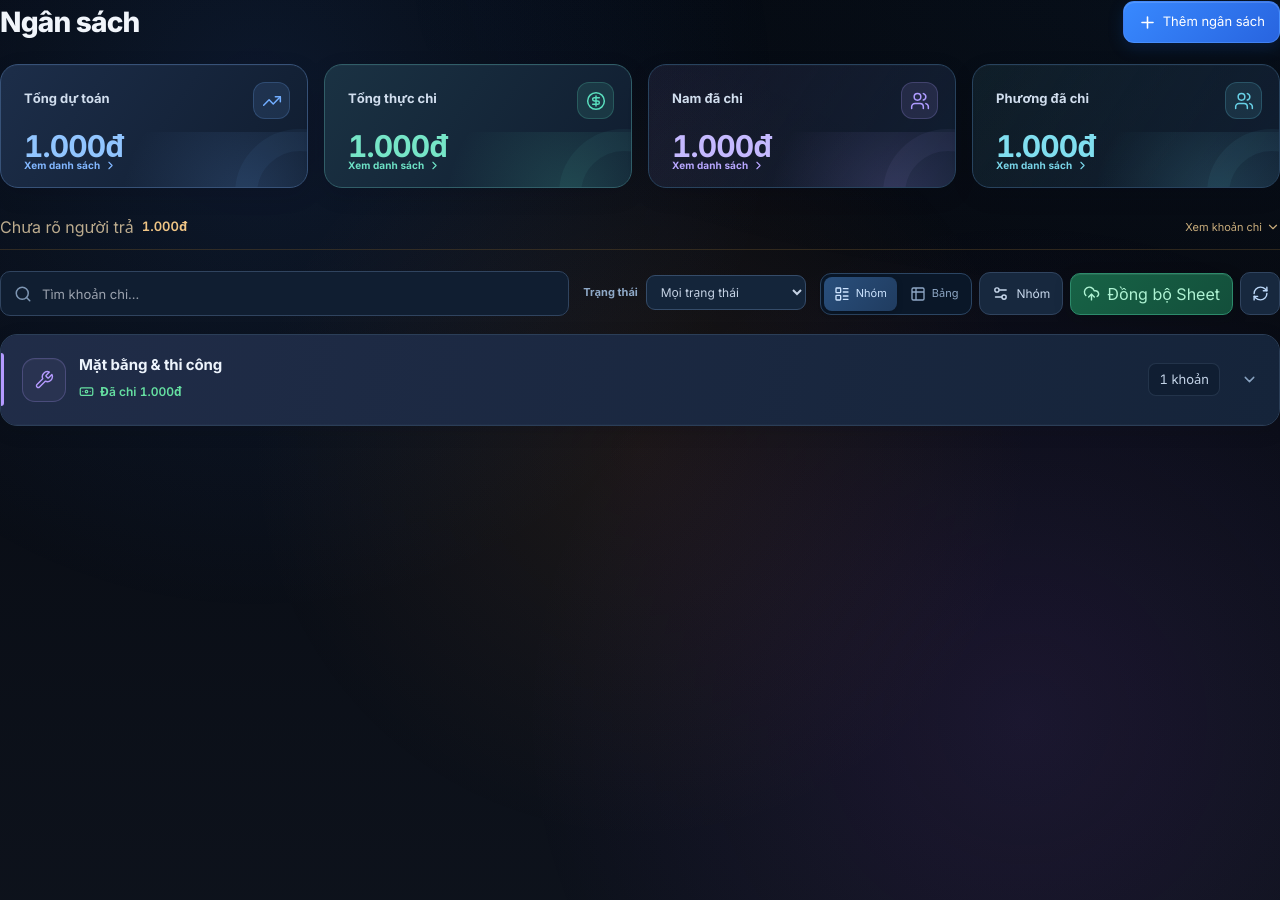
Checklist and Budget interactions › starts budget collapsed and sync resets open groups, search and filters
Click the button "Mặt bằng & thi công Đã chi 1.000đ 1 khoản". click: (44,380)
box: top-left (1, 335), bottom-right (1279, 425)
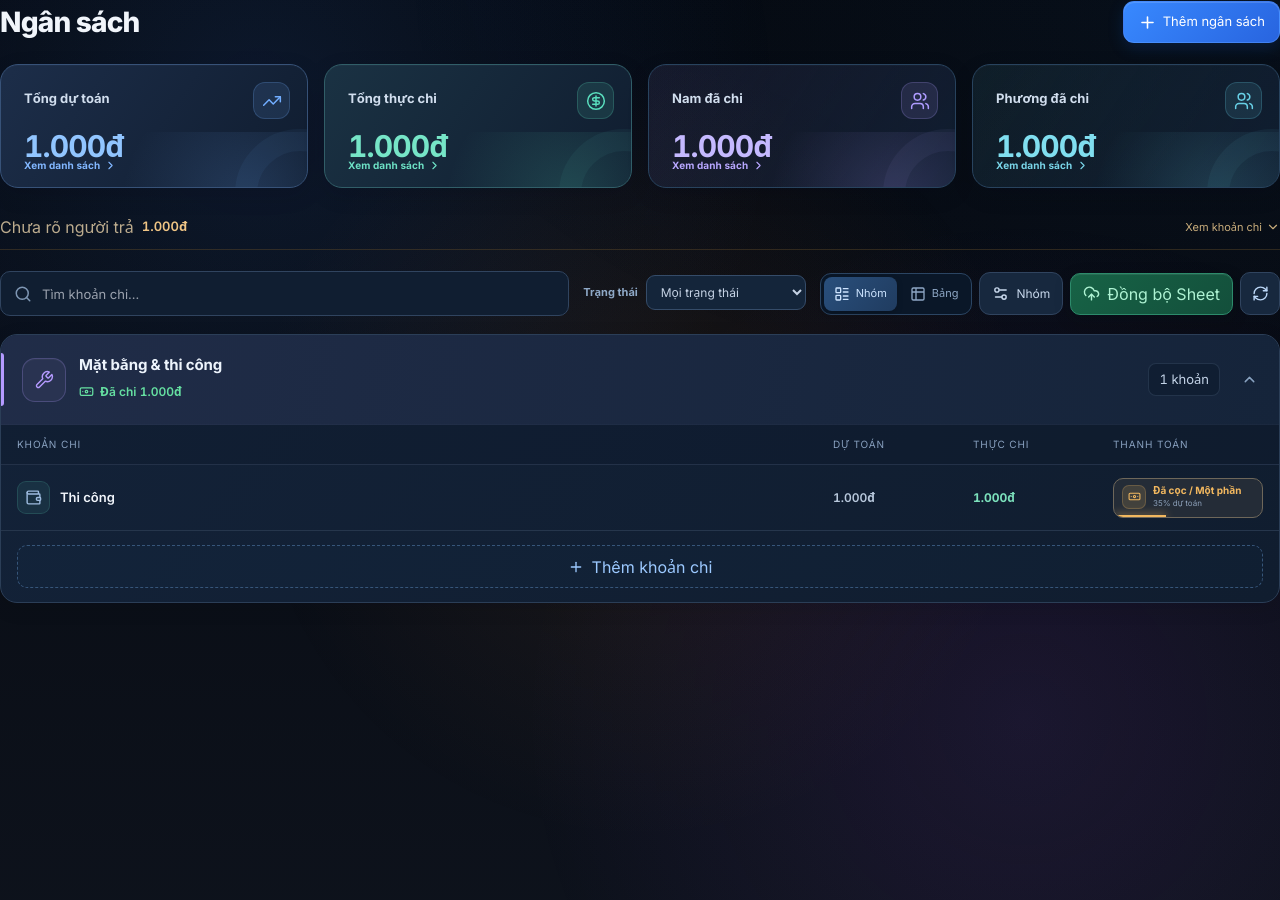
Expected: the button "Mặt bằng & thi công Đã chi 1.000đ 1 khoản" is expanded, top-left (1, 335), bottom-right (1279, 425)
Type "Thi" into the field named "Tìm kiếm". click: (299,294)
box: top-left (42, 272), bottom-right (555, 315)
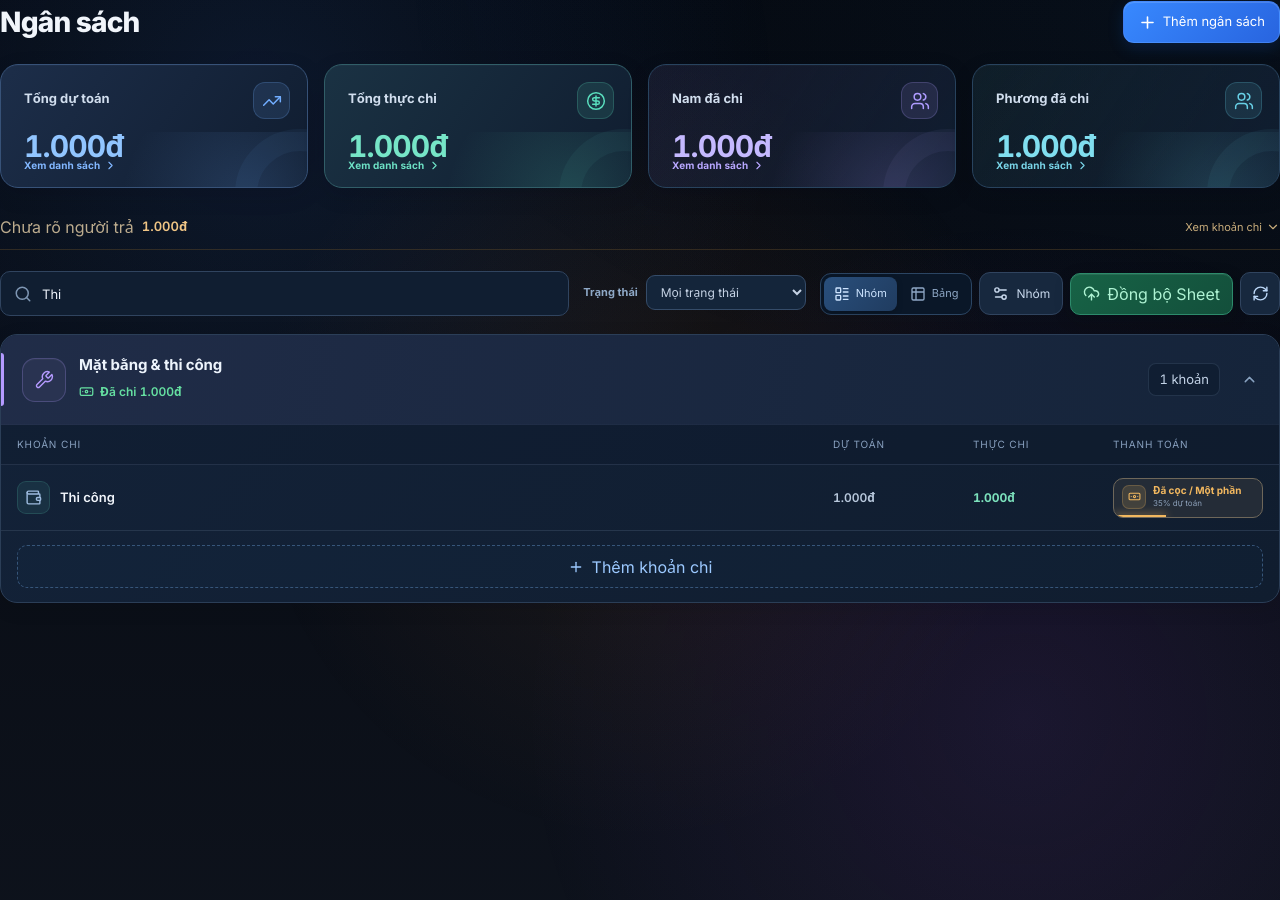
Select "Đã cọc / Một phần" in the dropdown named "Lọc trạng thái thanh toán". click: (726,292)
box: top-left (646, 275), bottom-right (806, 310)
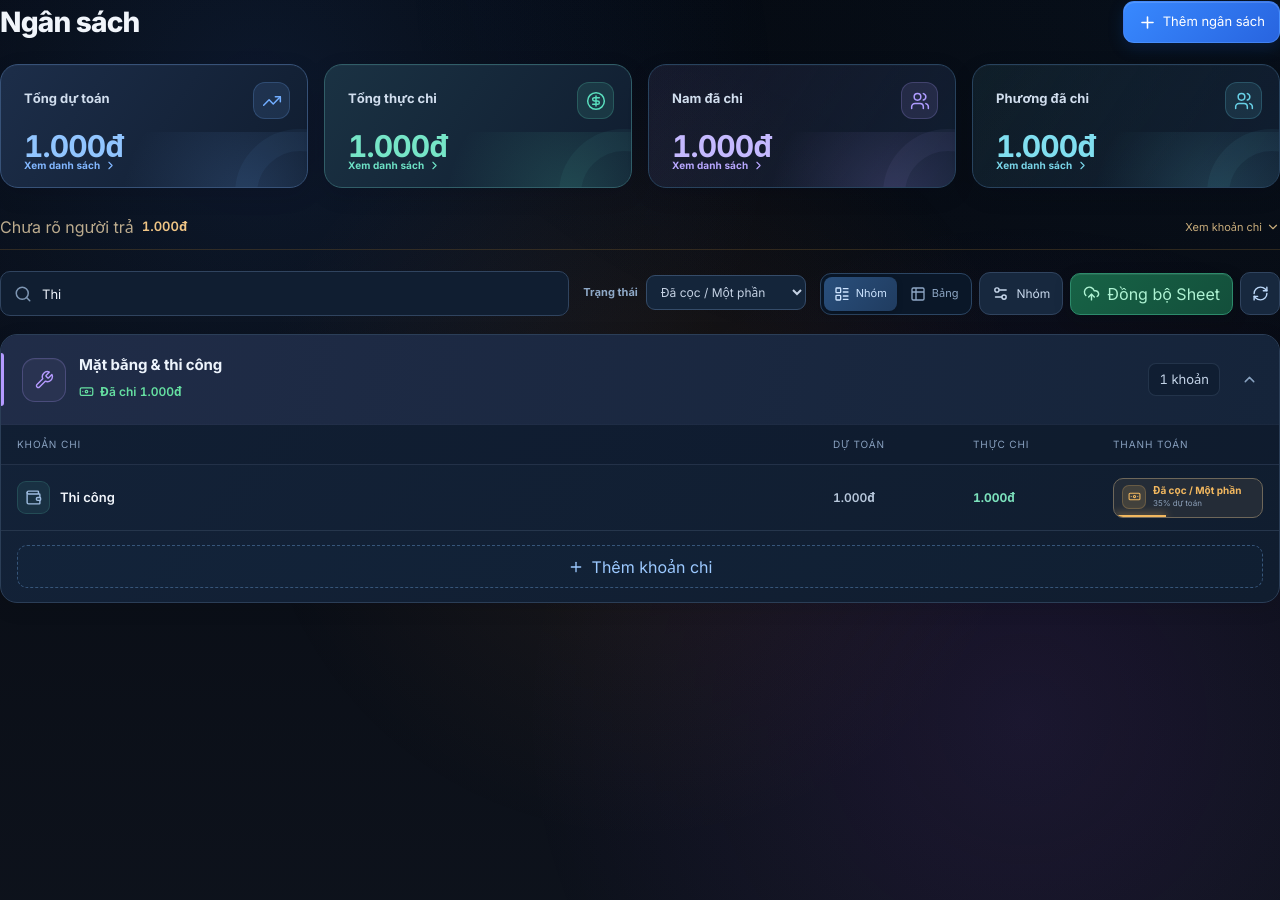
Click the button named "Tải lại dữ liệu". click: (1260,294)
box: top-left (1240, 272), bottom-right (1279, 315)
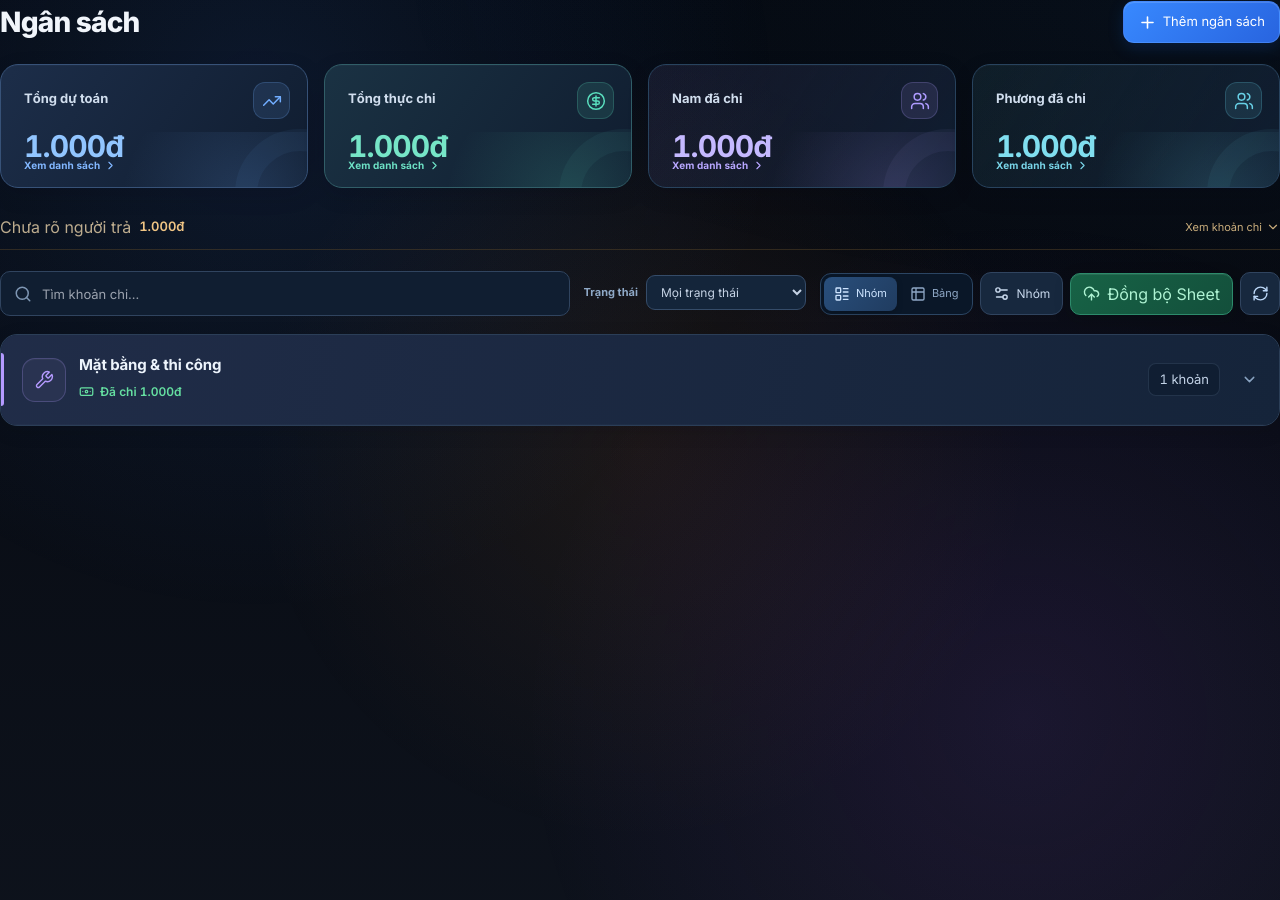
Expected: the field named "Tìm kiếm" is empty, top-left (42, 272), bottom-right (556, 315)
Expected: the button "Mặt bằng & thi công Đã chi 1.000đ 1 khoản" is collapsed, top-left (1, 335), bottom-right (1279, 425)
